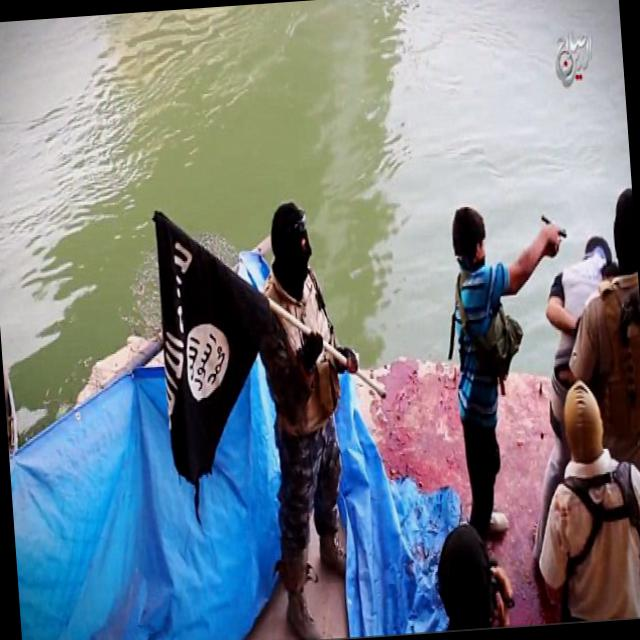handgun: (540, 210, 570, 258)
